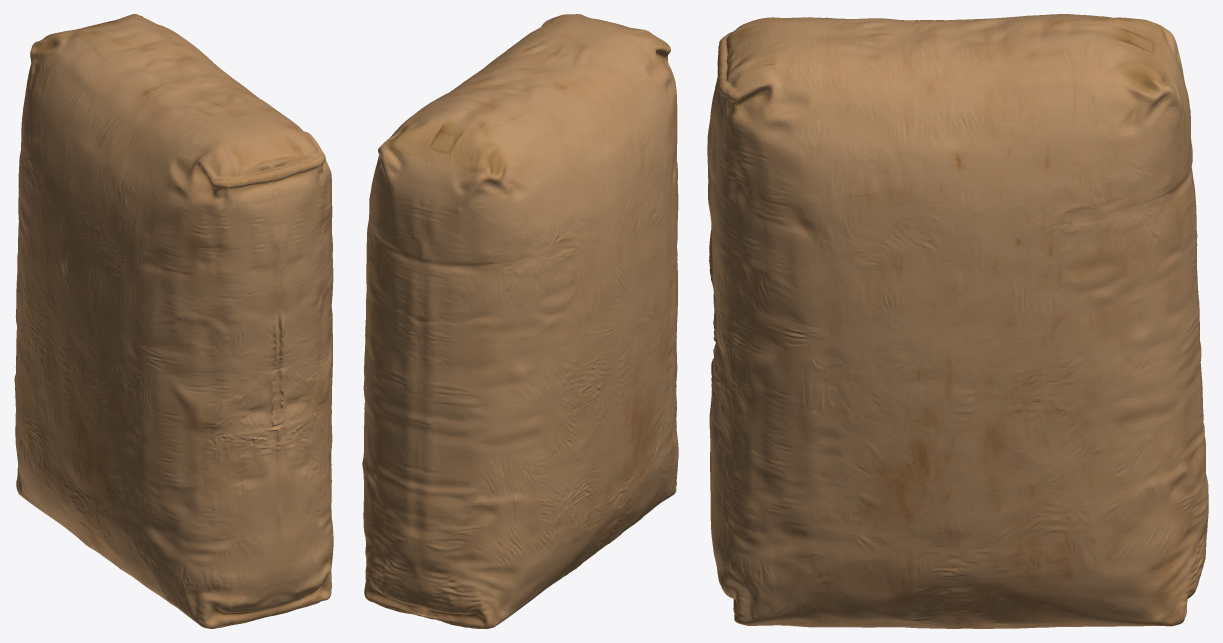
The model's file is tripo_convert_93e8b453-17cb-473f-93dc-094c643d203d.obj.
3 views of the same model, side by side, from view 1: azimuth 30°, elevation 25°; view 2: azimuth 150°, elevation 25°; view 3: azimuth 270°, elevation 25° (orthographic). The views are drawn at different scales.
Visible parts, largest first — view 1: tripo_node_93e8b453-17cb-473f-93dc-094c643d203d; view 2: tripo_node_93e8b453-17cb-473f-93dc-094c643d203d; view 3: tripo_node_93e8b453-17cb-473f-93dc-094c643d203d.
Boxes of the visible parts, x1,y1,x2,y2 form: tripo_node_93e8b453-17cb-473f-93dc-094c643d203d: (14,14,333,628); tripo_node_93e8b453-17cb-473f-93dc-094c643d203d: (362,14,678,628); tripo_node_93e8b453-17cb-473f-93dc-094c643d203d: (707,14,1208,628).
Size of the model in its own units: 0.4541 by 1 by 0.7808.
Materials: 1 (1 with a texture image).
